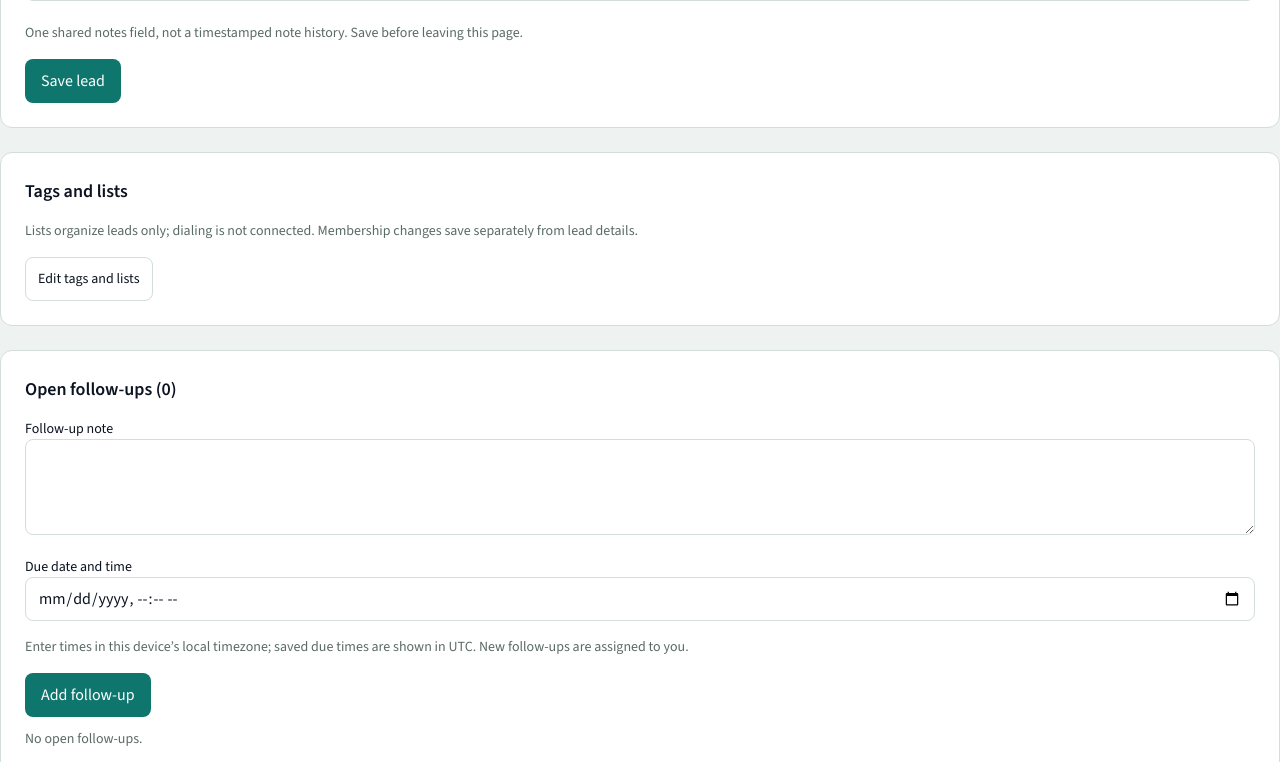
Test: validates follow-ups without issuing a database write
(page scrolled)
Click the button "Add follow-up": (88, 695) x1=25 y1=673 x2=151 y2=717
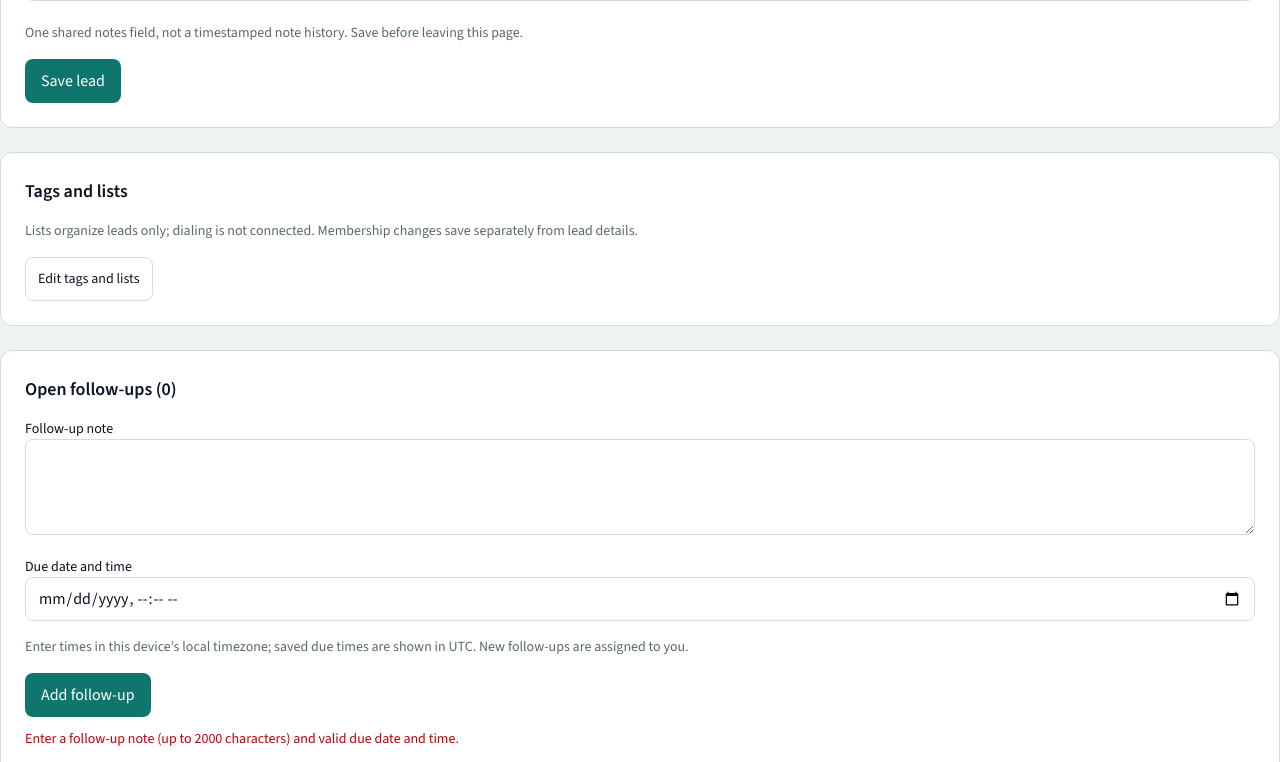
Expected: the message "Enter a follow-up note (up to 2000 characters) and valid due date and time." is shown, x1=25 y1=729 x2=459 y2=748
